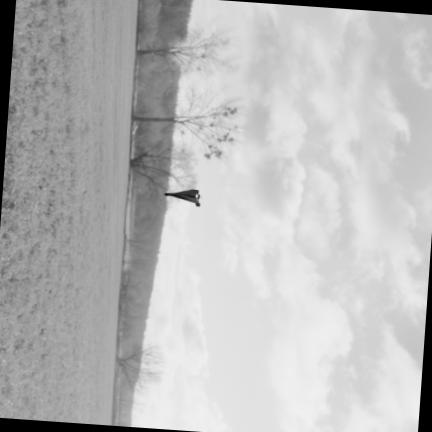Shahed: (163, 189, 199, 206)
